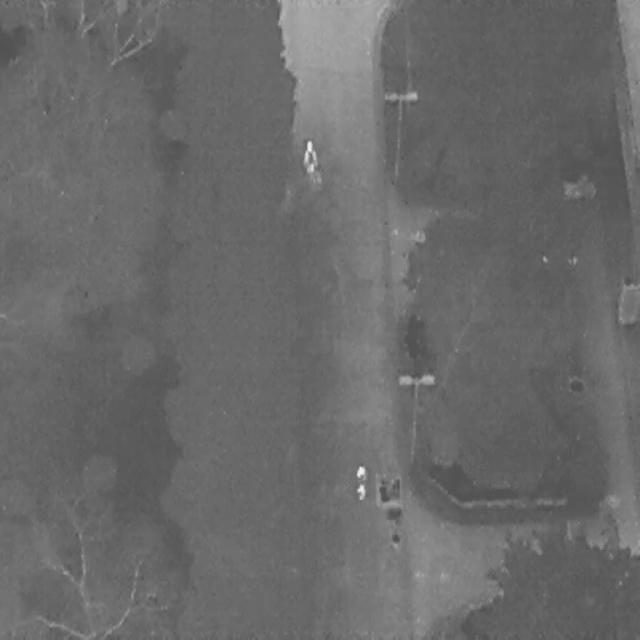Person: (302, 139, 317, 179), (353, 462, 366, 500)
